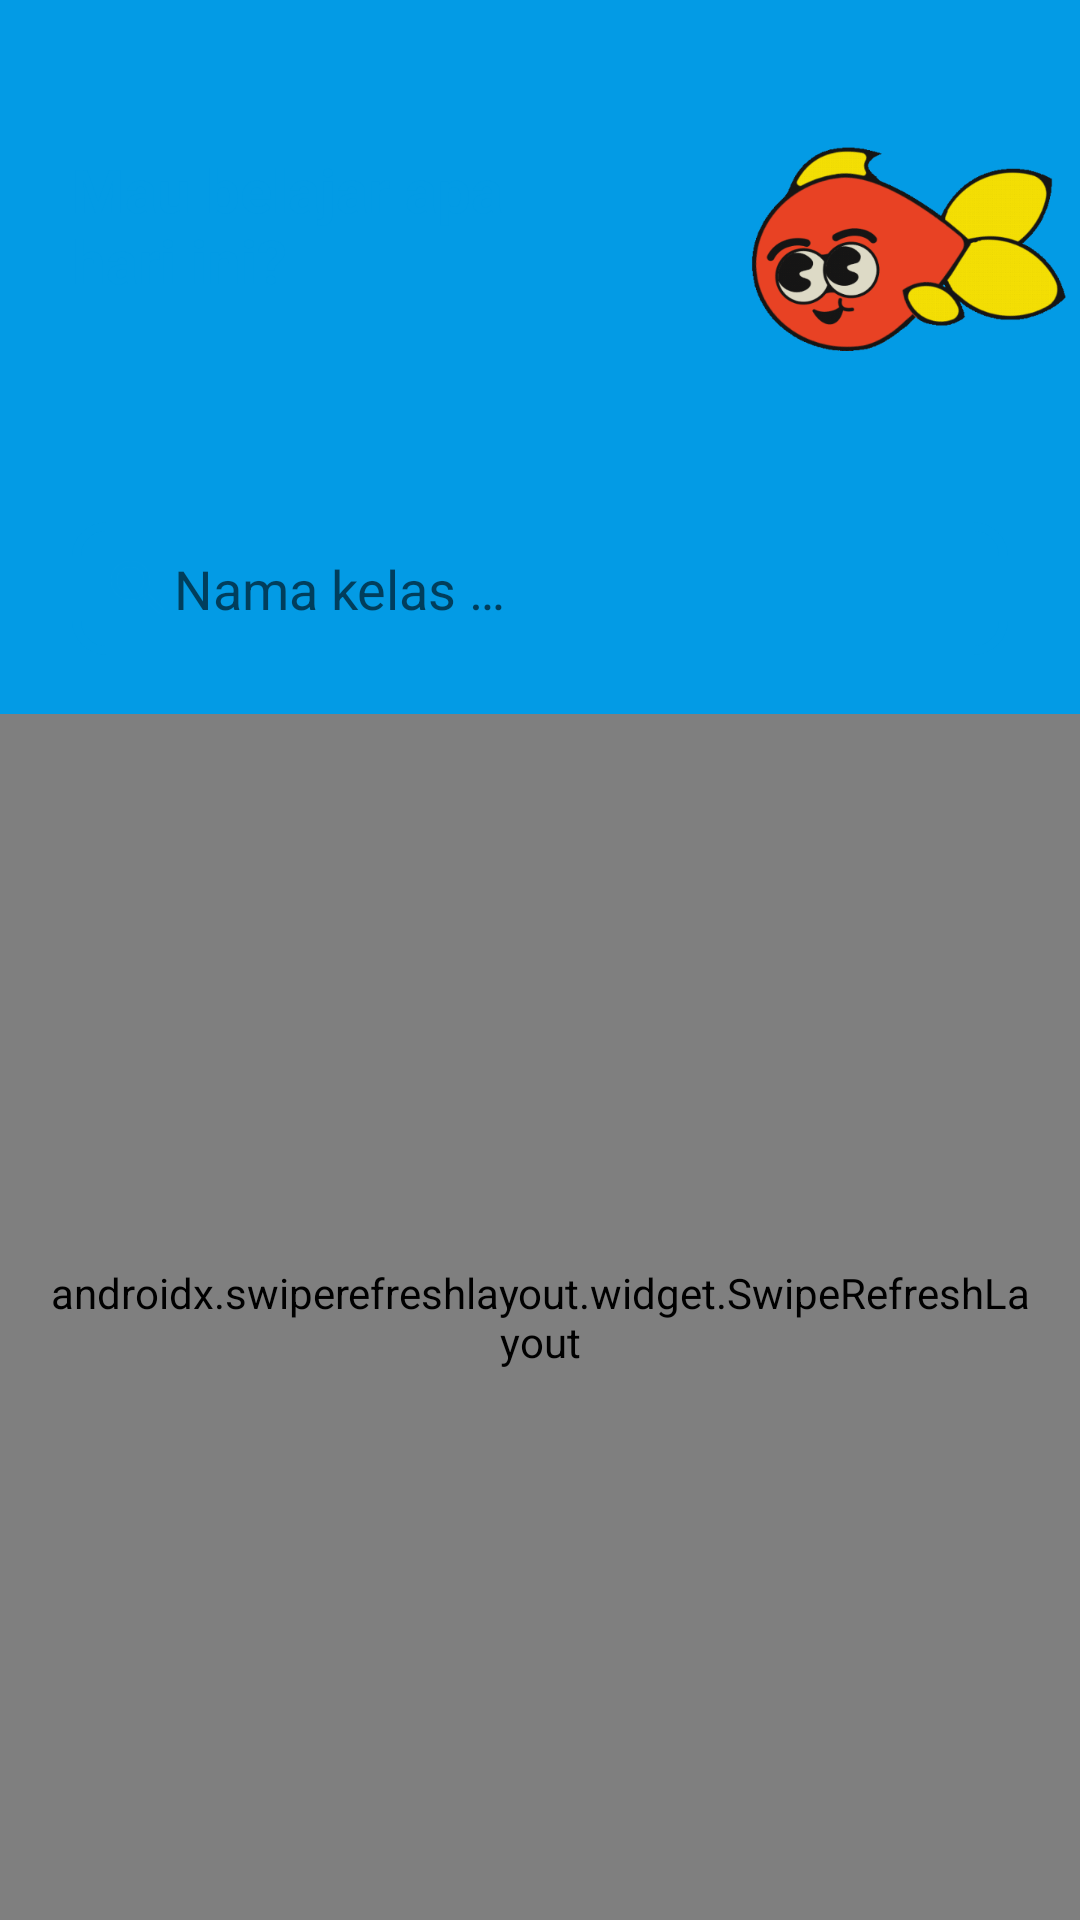

Icons on this 1080x1920 Android screen, each with its box as Rect(x1, y1, x2, y2):
Class Illustration: Rect(752, 147, 1066, 351)
